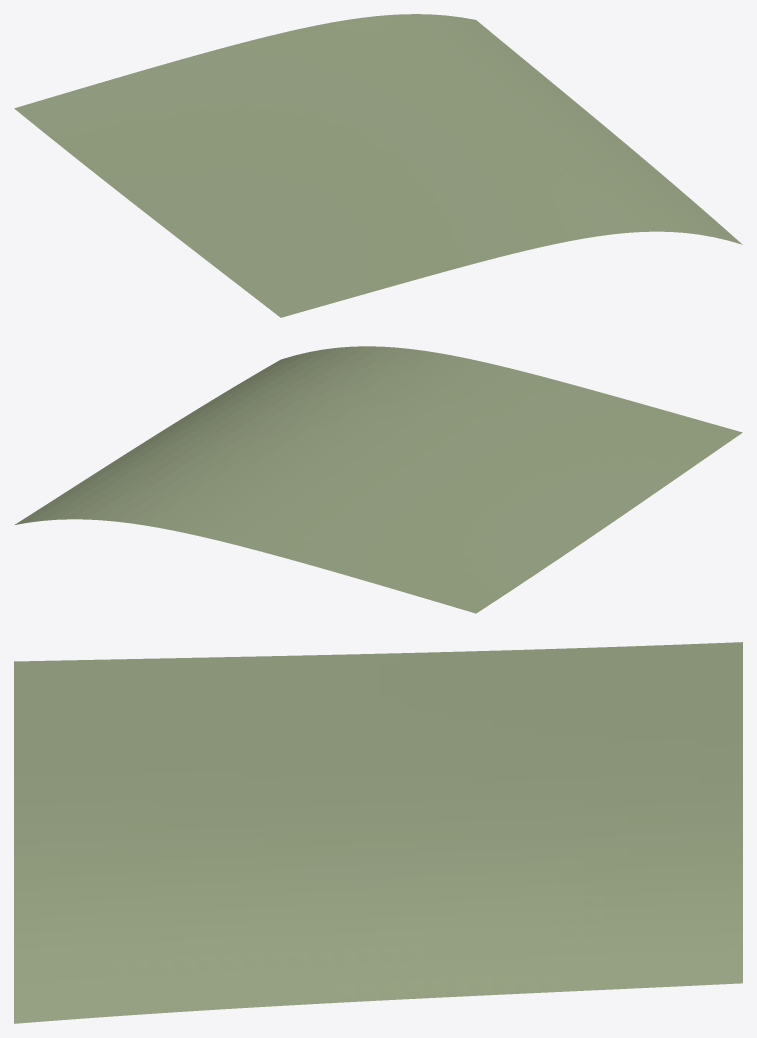
Rendered from expanse-13-10.glb.
3 renders of one model, top to bottom at view 1: azimuth 30°, elevation 25°; view 2: azimuth 150°, elevation 25°; view 3: azimuth 270°, elevation 25°, orthographic. The views are drawn at different scales.
Visible parts, largest first — view 1: expanse-13-10; view 2: expanse-13-10; view 3: expanse-13-10.
Part boxes in pixels (x1=…): expanse-13-10: x1=14, y1=14, x2=742, y2=317; expanse-13-10: x1=15, y1=346, x2=742, y2=613; expanse-13-10: x1=14, y1=642, x2=742, y2=1023.
Size of the model in its own units: 256 by 33.9 by 256.
